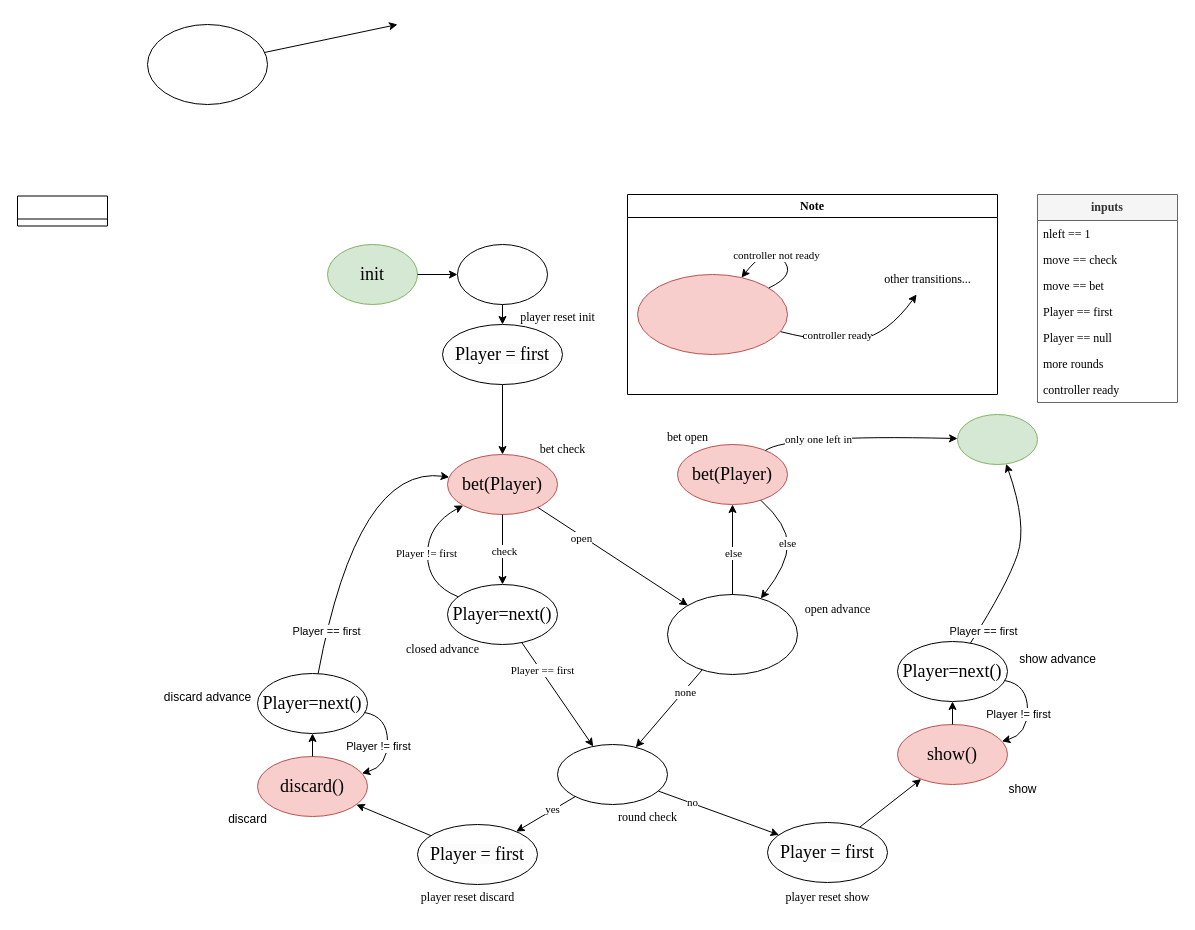
Image size: 1195x930. Some labels were removed from this diagram. Each missing label, with the centre of its shape:
deal: point (502, 274)
end: point (997, 439)
MetaState: point (62, 210)
more rounds?: point (612, 774)
Player = next_under_bet(): point (732, 634)
red states all flow back to themselves until controllers give their move: point (712, 314)
